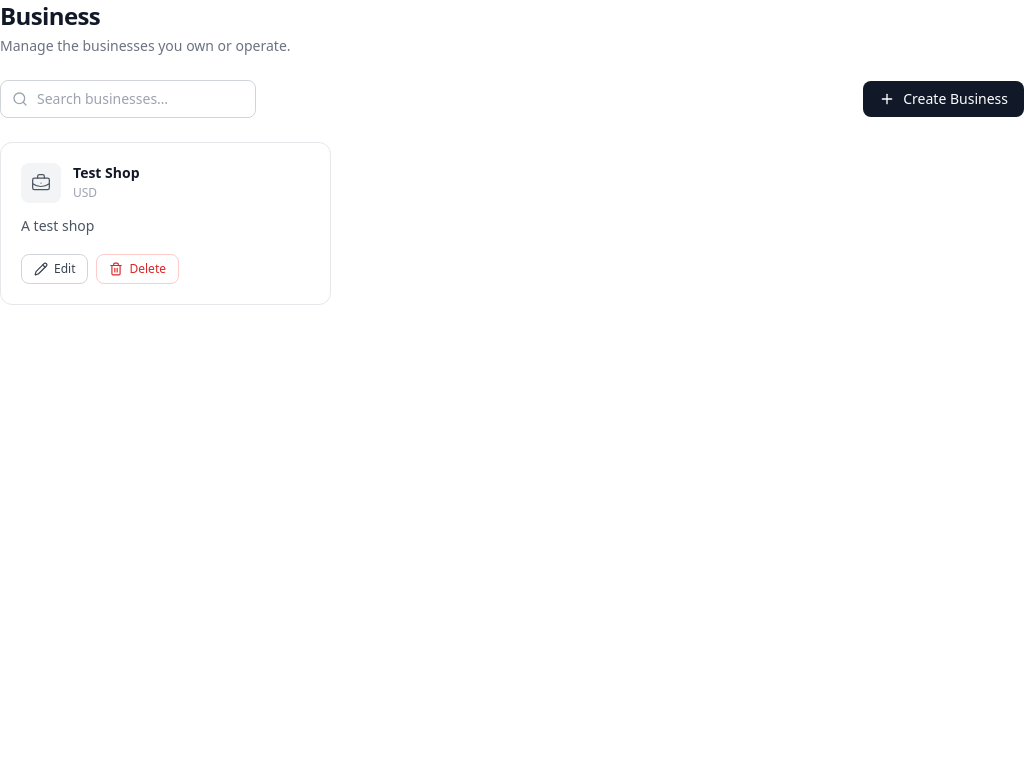
Scenario: BusinessPage — delete › shows delete confirmation dialog
Expected: the heading "Test Shop" is shown, [73,163,140,182]
Click the button with aria-label "Delete Test Shop" at (138, 269), box [96,254,179,284]
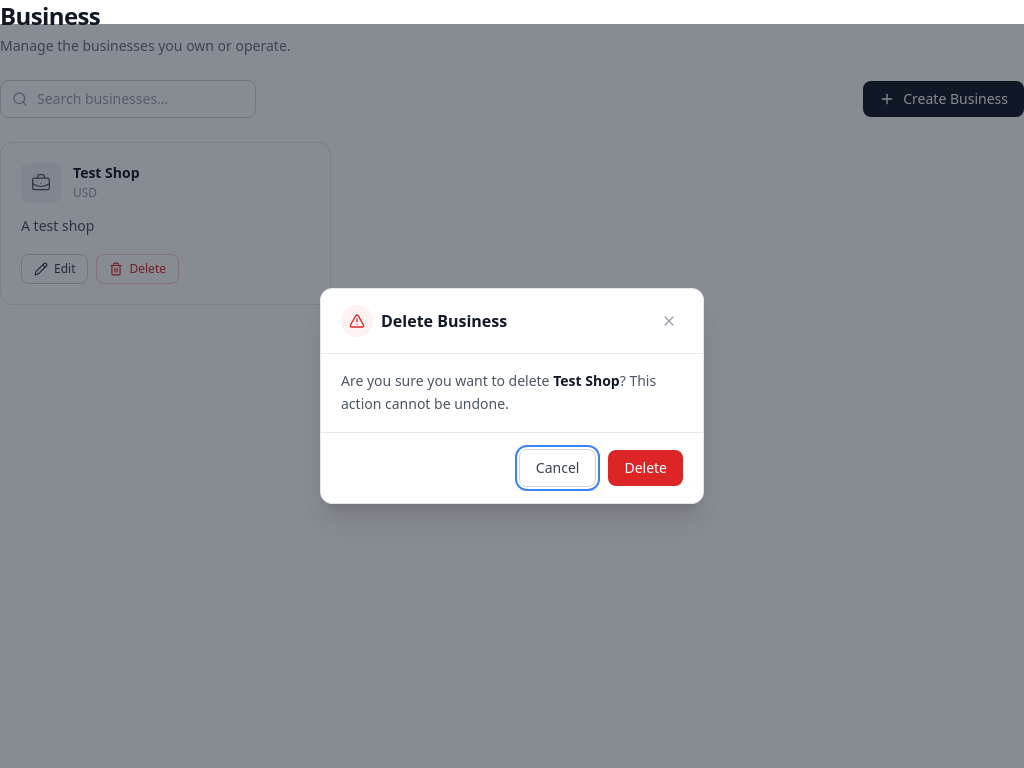
Expected: the heading "Delete Business" is shown, [381,309,507,333]
Expected: the text "Are you sure you want to delete" is shown, [341,371,553,390]
